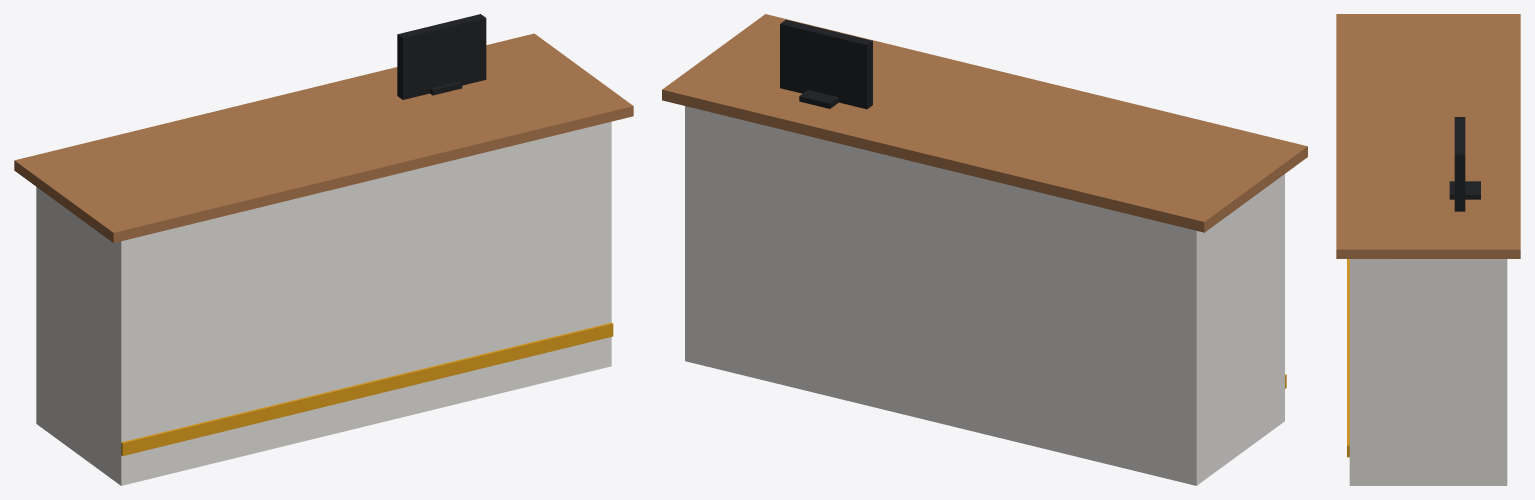
The model's file is counter.glb.
3 views of the same model, side by side, from view 1: azimuth 30°, elevation 25°; view 2: azimuth 150°, elevation 25°; view 3: azimuth 270°, elevation 25° (orthographic). The views are drawn at different scales.
Visible parts, largest first — view 1: counter; view 2: counter; view 3: counter.
Part boxes in pixels (left/top/right/bottom): counter: left=14, top=14, right=633, bottom=485; counter: left=662, top=14, right=1307, bottom=485; counter: left=1336, top=14, right=1520, bottom=485.
Size of the model in its own units: 2.12 by 1.26 by 0.7001.
